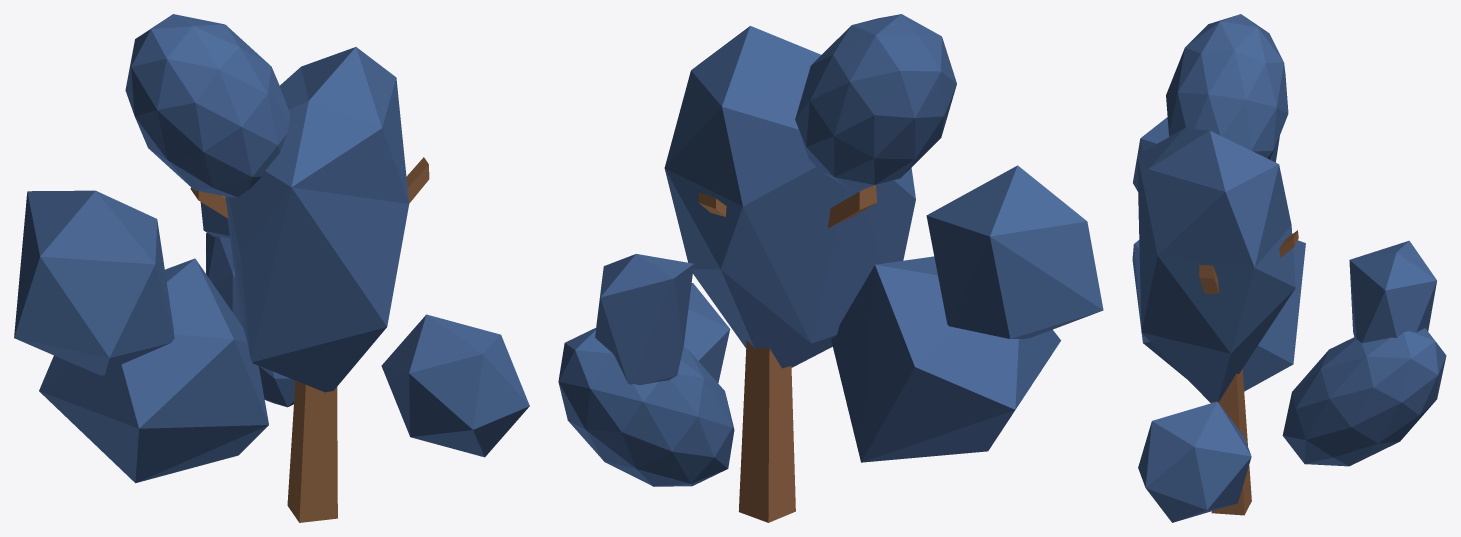
The model's file is tree-winter-complete-1-001.glb.
3 views of the same model, side by side, from view 1: azimuth 30°, elevation 25°; view 2: azimuth 150°, elevation 25°; view 3: azimuth 270°, elevation 25° (orthographic). The views are drawn at different scales.
Parts seen in each view (by area): view 1: TREE 1.005_183, TREE 1.004_184; view 2: TREE 1.005_183, TREE 1.004_184; view 3: TREE 1.005_183, TREE 1.004_184.
Boxes of the visible parts, bbox=[...] form: TREE 1.005_183: bbox=[14, 14, 529, 483]; TREE 1.004_184: bbox=[190, 157, 429, 522]; TREE 1.005_183: bbox=[558, 14, 1103, 486]; TREE 1.004_184: bbox=[698, 185, 877, 522]; TREE 1.005_183: bbox=[1132, 14, 1446, 522]; TREE 1.004_184: bbox=[1199, 230, 1298, 515].
Bounding box in the file's own units: 1.17 × 1.19 × 0.7756.
